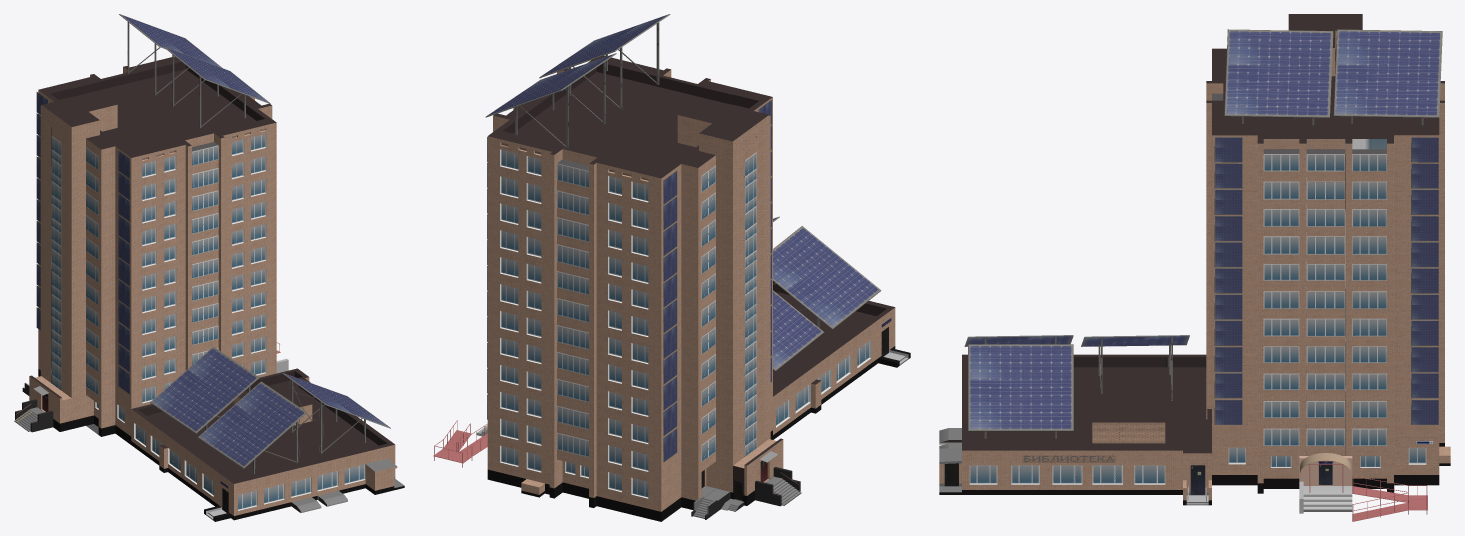
Rendered from bipv1.glb.
The picture shows the model from 3 angles, left to right: view 1: azimuth 30°, elevation 25°; view 2: azimuth 150°, elevation 25°; view 3: azimuth 270°, elevation 25°; orthographic projection. The views are drawn at different scales.
Visible parts, largest first — view 1: Object_8, Object_4, Cube.7_default_0.045, Cube.7_default_0.046, Cube.7_default_0.047, Cube.7_default_0.044, Cube.7_default_0.048, Object_3, Object_11; view 2: Object_8, Object_4, Cube.7_default_0.045, Object_11, Cube.7_default_0.048, Cube.7_default_0.047, Cube.7_default_0.046, Object_3, Object_5; view 3: Object_8, Object_4, Cube.7_default_0.044, Cube.7_default_0.047, Cube.7_default_0.048, Object_3, Object_5, Cube.7_default_0.046, Object_11, Cube.7_default_0.045, Cube.7_default_0.019, Object_2 (+21 smaller).
Boxes of the visible parts, left/top/right/bottom form: Object_8: left=29, top=67, right=397, bottom=515; Object_4: left=30, top=56, right=404, bottom=521; Cube.7_default_0.045: left=197, top=381, right=307, bottom=473; Cube.7_default_0.046: left=150, top=346, right=259, bottom=433; Cube.7_default_0.047: left=164, top=47, right=270, bottom=128; Cube.7_default_0.044: left=282, top=373, right=390, bottom=453; Cube.7_default_0.048: left=119, top=14, right=222, bottom=95; Object_3: left=42, top=98, right=311, bottom=407; Object_11: left=14, top=358, right=288, bottom=432; Object_8: left=487, top=70, right=895, bottom=511; Object_4: left=487, top=56, right=910, bottom=521; Cube.7_default_0.045: left=773, top=226, right=881, bottom=329; Object_11: left=476, top=425, right=801, bottom=519; Cube.7_default_0.048: left=485, top=53, right=616, bottom=148; Cube.7_default_0.047: left=539, top=14, right=670, bottom=109; Cube.7_default_0.046: left=773, top=290, right=824, bottom=371; Object_3: left=699, top=106, right=768, bottom=141; Object_5: left=433, top=420, right=798, bottom=494; Object_8: left=939, top=30, right=1450, bottom=500; Object_4: left=939, top=30, right=1450, bottom=505; Cube.7_default_0.044: left=968, top=344, right=1073, bottom=438; Cube.7_default_0.047: left=1224, top=29, right=1333, bottom=125; Cube.7_default_0.048: left=1333, top=29, right=1442, bottom=125; Object_3: left=1092, top=14, right=1362, bottom=422; Object_5: left=1308, top=461, right=1427, bottom=521; Cube.7_default_0.046: left=1081, top=335, right=1189, bottom=400; Object_11: left=1299, top=481, right=1352, bottom=513; Cube.7_default_0.045: left=964, top=335, right=1073, bottom=346; Cube.7_default_0.019: left=1214, top=346, right=1242, bottom=372; Object_2: left=1022, top=455, right=1115, bottom=462.
Size of the model in its own units: 33.55 by 40.48 by 44.99.
23 materials, 17 textured.
